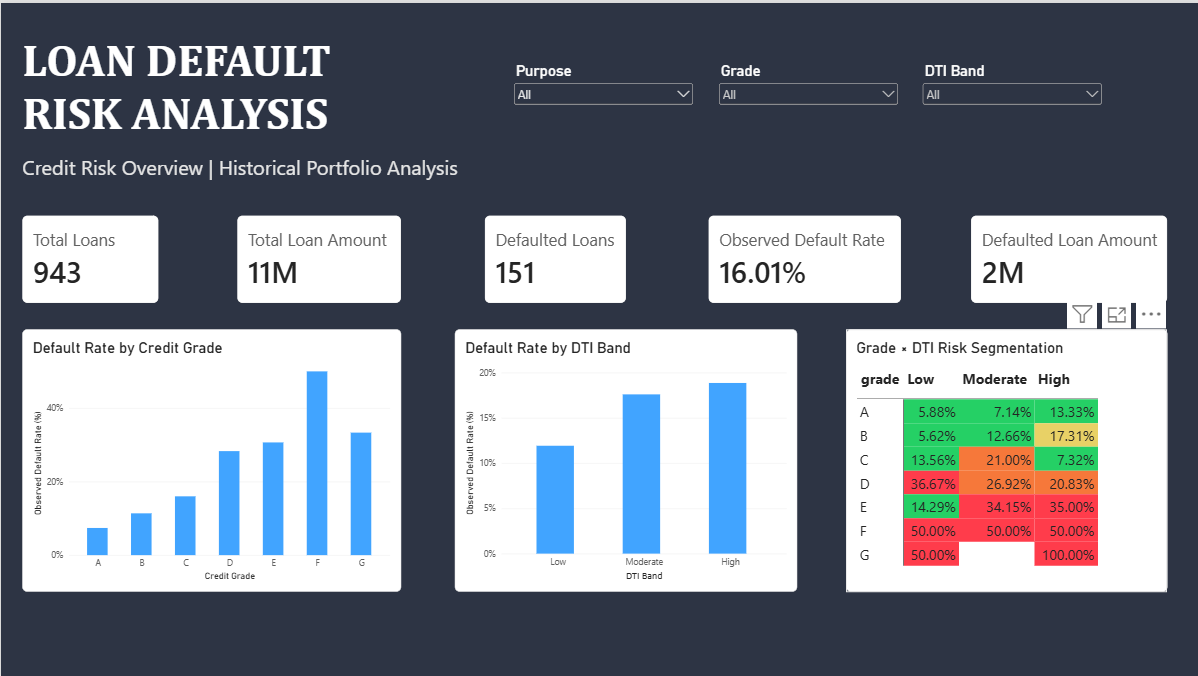

Layout of this report page (visuals, bound fields, positions):
{"tool":"powerbi","page":{"name":"Page 1","canvas":[1920,1080],"ordinal":0},"visuals":[{"type":"cardVisual","fields":{"Data":["loan_risk_analysis loan_data.Total_rows"]},"box":[34,340,218,140],"z":0},{"type":"cardVisual","fields":{"Data":["loan_risk_analysis loan_data.Total_loan_amount"]},"box":[378,340,262,140],"z":1000},{"type":"cardVisual","fields":{"Data":["loan_risk_analysis loan_data.Defaulted Loans"]},"box":[774,340,226,140],"z":2000},{"type":"cardVisual","fields":{"Data":["loan_risk_analysis loan_data.Observed Default Rate"]},"box":[1132,340,308,140],"z":3000},{"type":"cardVisual","fields":{"Data":["loan_risk_analysis loan_data.Defaulted Loan Amount"]},"box":[1552,340,314,140],"z":4000},{"type":"clusteredColumnChart","title":"Default Rate by Credit Grade","fields":{"Category":["loan_risk_analysis loan_data.grade"],"Y":["loan_risk_analysis loan_data.Observed Default Rate"]},"box":[34,522,606,420],"z":5000},{"type":"clusteredColumnChart","title":"Default Rate by DTI Band","fields":{"Category":["loan_risk_analysis loan_data.DTI Band"],"Y":["loan_risk_analysis loan_data.Observed Default Rate"]},"box":[726,522,548,420],"z":6000},{"type":"textbox","box":[34,48,502,192],"z":7000},{"type":"textbox","box":[34,240,716,50],"z":8000},{"type":"slicer","fields":{"Values":["loan_risk_analysis loan_data.purpose"]},"box":[816,94,296,98],"z":9000},{"type":"slicer","fields":{"Values":["loan_risk_analysis loan_data.DTI Band"]},"box":[1470,94,296,98],"z":10000},{"type":"slicer","fields":{"Values":["loan_risk_analysis loan_data.grade"]},"box":[1144,94,296,98],"z":11000},{"type":"pivotTable","title":"Grade × DTI Risk Segmentation","fields":{"Columns":["loan_risk_analysis loan_data.DTI Band"],"Rows":["loan_risk_analysis loan_data.grade"],"Values":["loan_risk_analysis loan_data.Observed Default Rate"]},"box":[1352,522,514,420],"z":11001}]}

Visuals, with their boxes in screenshot pixels (x1, y1, x2, y2), scaled from the page's 1920x1080 canvas onto the 1198x676 screenshot:
cardVisual - loan_risk_analysis loan_data.Total_rows: x1=21, y1=213, x2=157, y2=300
cardVisual - loan_risk_analysis loan_data.Total_loan_amount: x1=236, y1=213, x2=399, y2=300
cardVisual - loan_risk_analysis loan_data.Defaulted Loans: x1=483, y1=213, x2=624, y2=300
cardVisual - loan_risk_analysis loan_data.Observed Default Rate: x1=706, y1=213, x2=898, y2=300
cardVisual - loan_risk_analysis loan_data.Defaulted Loan Amount: x1=968, y1=213, x2=1164, y2=300
"Default Rate by Credit Grade" clusteredColumnChart: x1=21, y1=327, x2=399, y2=590
"Default Rate by DTI Band" clusteredColumnChart: x1=453, y1=327, x2=795, y2=590
textbox: x1=21, y1=30, x2=334, y2=150
textbox: x1=21, y1=150, x2=468, y2=182
slicer - loan_risk_analysis loan_data.purpose: x1=509, y1=59, x2=694, y2=120
slicer - loan_risk_analysis loan_data.DTI Band: x1=917, y1=59, x2=1102, y2=120
slicer - loan_risk_analysis loan_data.grade: x1=714, y1=59, x2=898, y2=120
"Grade × DTI Risk Segmentation" pivotTable: x1=844, y1=327, x2=1164, y2=590
